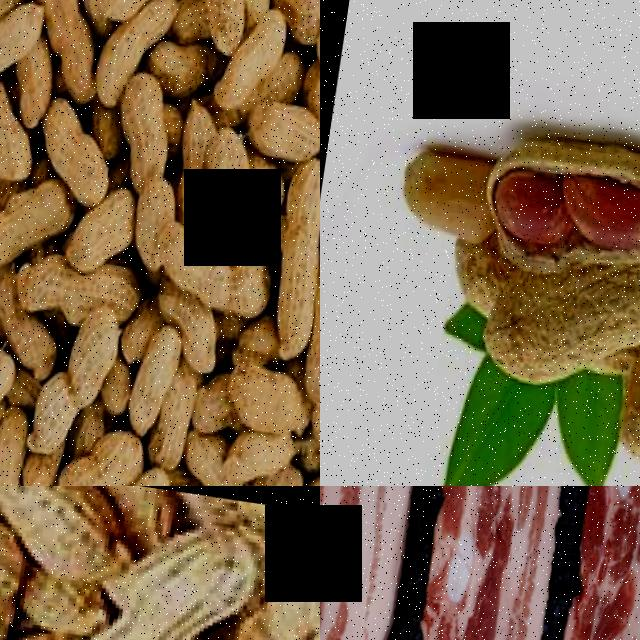peanuts: (121, 511, 289, 640), (478, 271, 632, 397), (261, 157, 320, 360), (394, 145, 494, 247), (199, 128, 266, 245), (60, 303, 126, 420), (559, 170, 640, 260), (114, 75, 172, 198), (490, 165, 568, 252), (192, 246, 273, 324), (227, 365, 309, 438), (64, 203, 137, 279), (155, 361, 202, 475), (56, 426, 144, 486), (231, 8, 287, 101), (129, 328, 176, 437), (247, 96, 320, 164), (56, 124, 114, 204), (0, 190, 47, 275), (16, 47, 58, 132), (192, 0, 251, 55), (0, 407, 36, 486), (301, 270, 320, 411), (0, 120, 34, 184), (0, 348, 18, 425)
pork belly: (383, 486, 588, 640), (519, 486, 640, 640), (320, 486, 434, 640)
